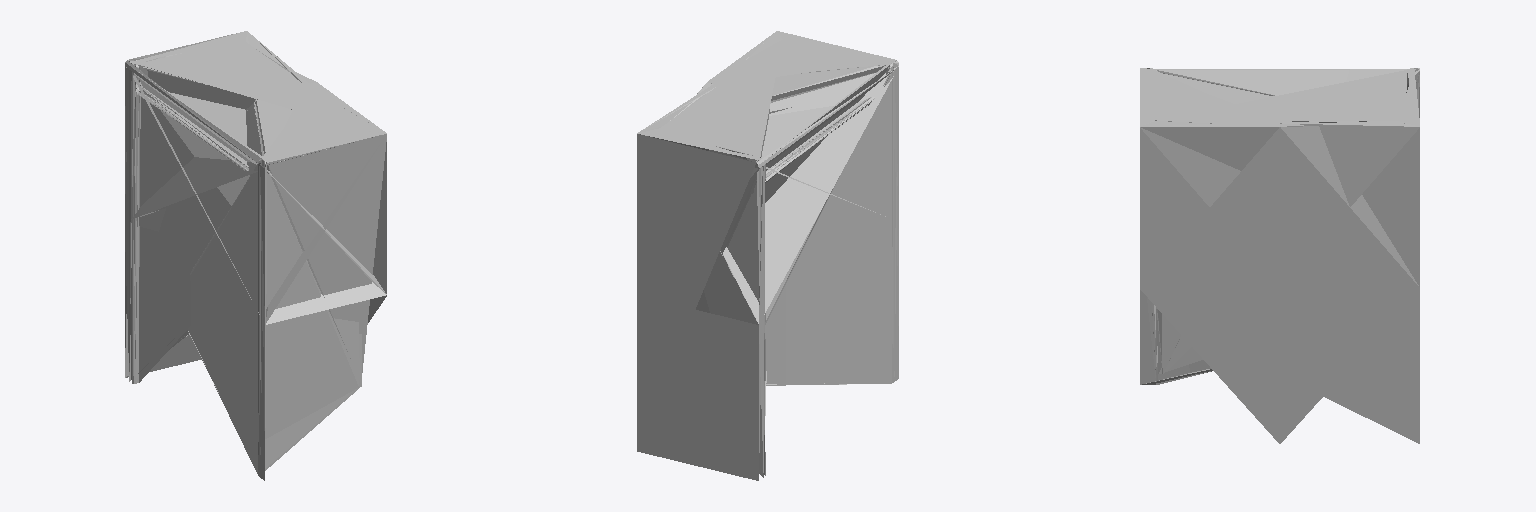
Rendered from tub_and_shower.obj.
The picture shows the model from 3 angles: view 1: azimuth 30°, elevation 25°; view 2: azimuth 150°, elevation 25°; view 3: azimuth 270°, elevation 25°; orthographic projection.
Visible parts, largest first — view 1: Model001_5_Material855_1.0_0.0_0.0, Model001_5_Material794_1.0_0.0_0.0; view 2: Model001_5_Material794_1.0_0.0_0.0, Model001_5_Material855_1.0_0.0_0.0; view 3: Model001_5_Material794_1.0_0.0_0.0, Model001_5_Material855_1.0_0.0_0.0.
Part boxes in pixels (x1,y1,x2,y2): Model001_5_Material855_1.0_0.0_0.0: (125, 35, 386, 470); Model001_5_Material794_1.0_0.0_0.0: (125, 31, 386, 480); Model001_5_Material794_1.0_0.0_0.0: (637, 31, 898, 480); Model001_5_Material855_1.0_0.0_0.0: (637, 31, 898, 477); Model001_5_Material794_1.0_0.0_0.0: (1140, 68, 1419, 443); Model001_5_Material855_1.0_0.0_0.0: (1140, 68, 1419, 443).
Bounding box in the file's own units: 1.28 × 3.18 × 2.55.